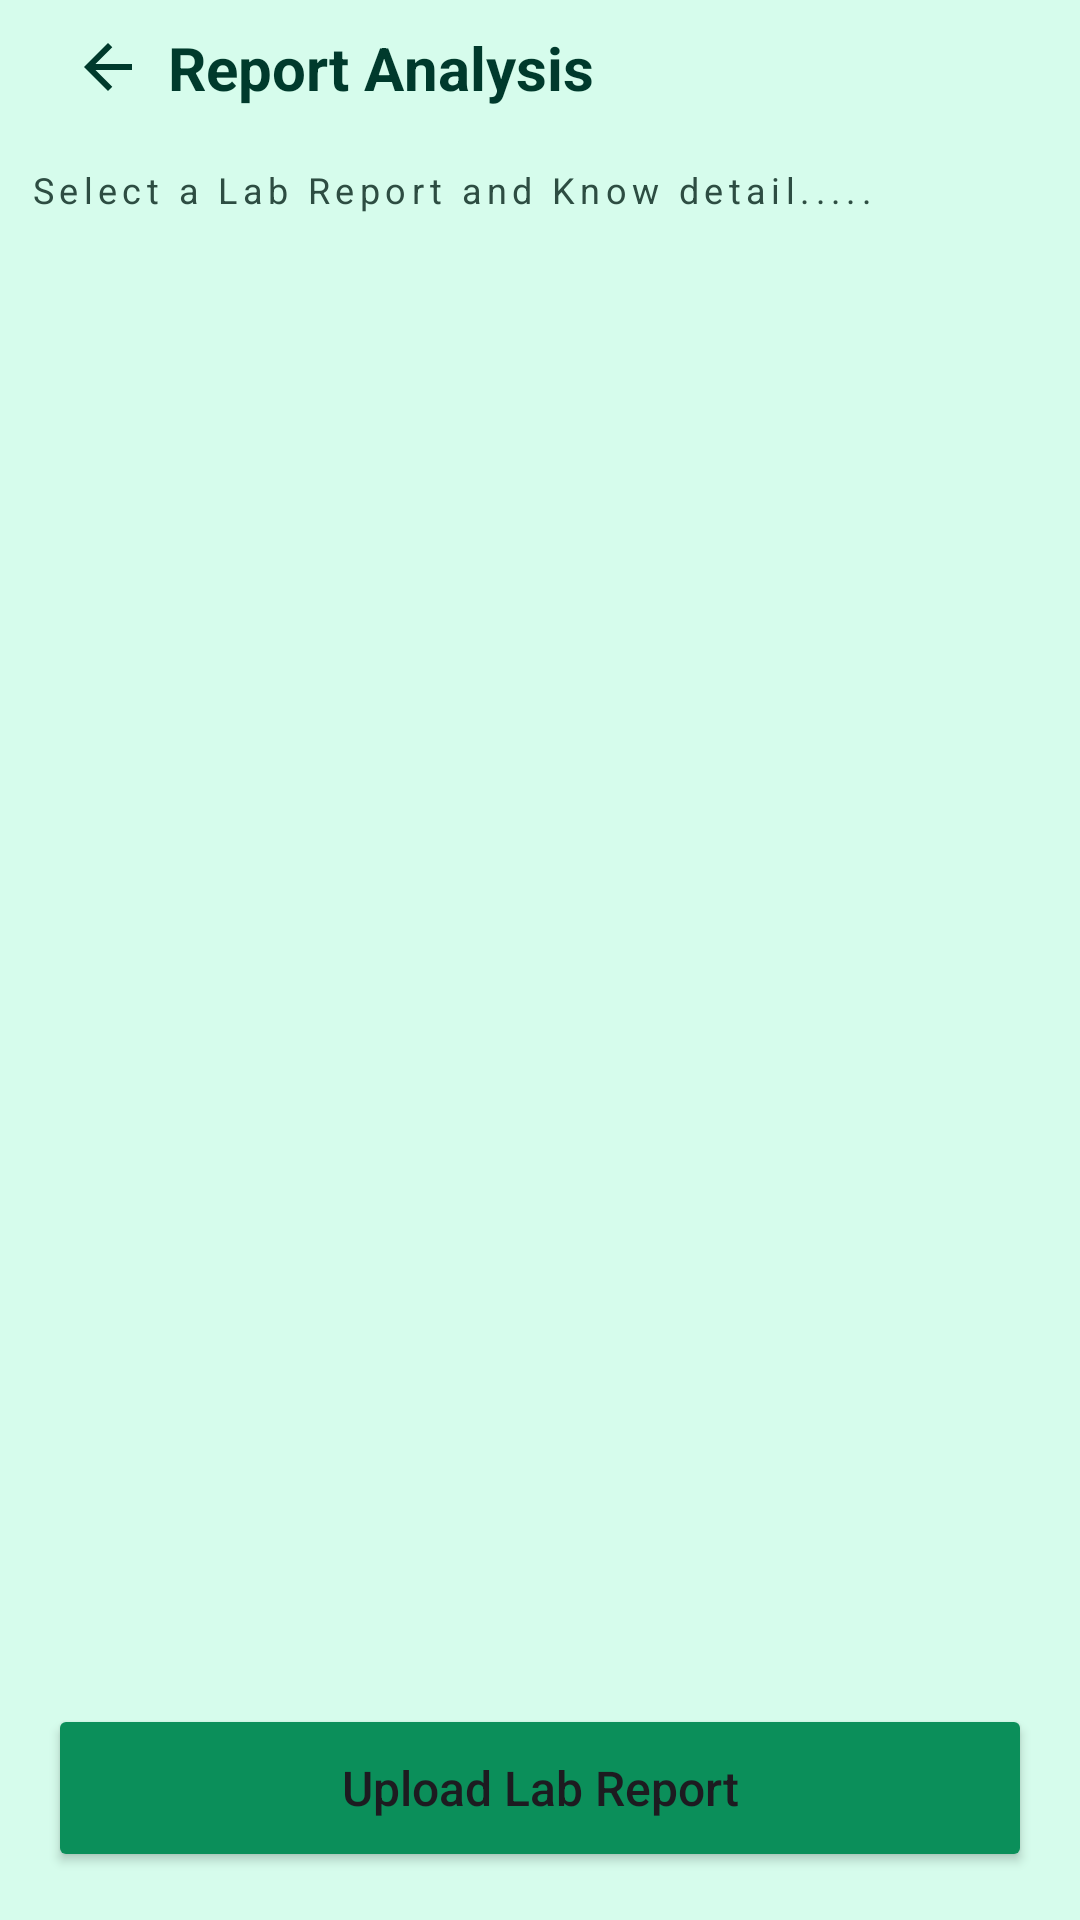

Where icons sit on this 1080px×1920px app screen, as (x1, y1, x2, y2):
arrow back: (84, 43, 132, 91)
